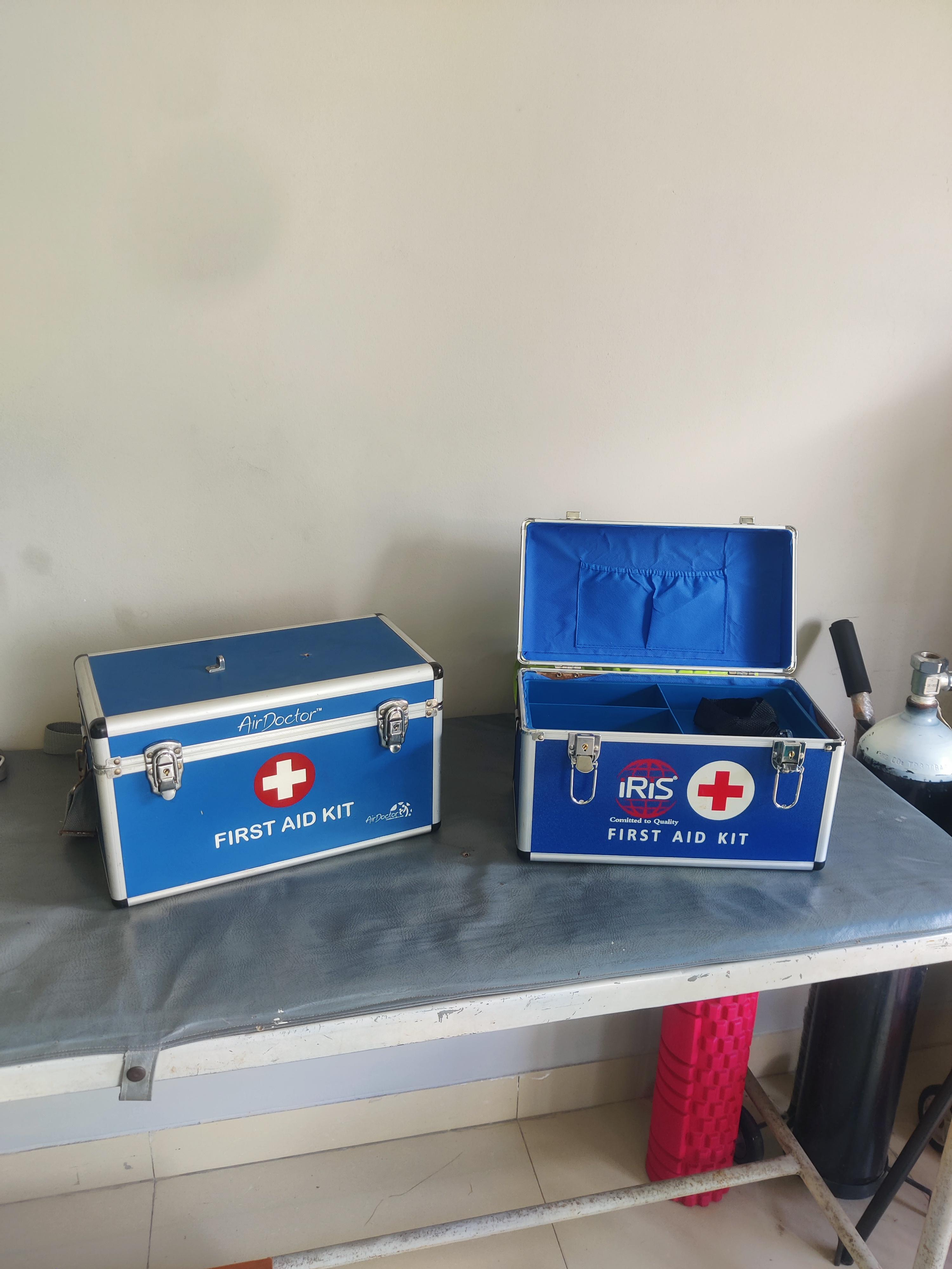FirstAidBox: (493, 494, 859, 902), (48, 596, 463, 916)
